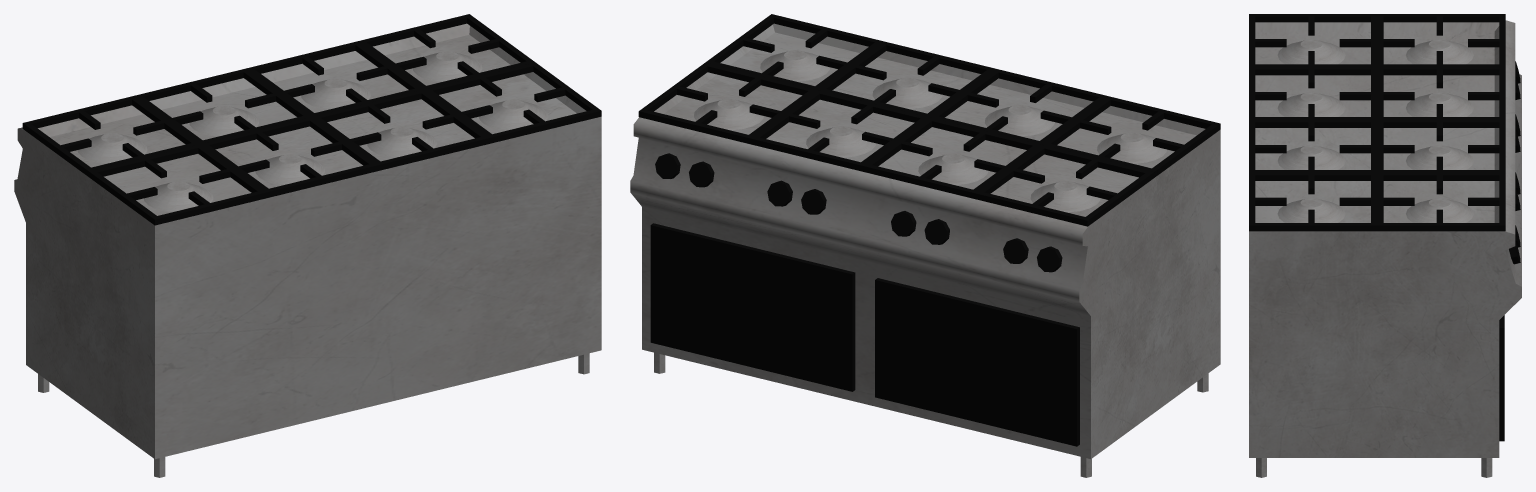
File: cantina-cooker.fbx
The picture shows the model from 3 angles, left to right: view 1: azimuth 30°, elevation 25°; view 2: azimuth 150°, elevation 25°; view 3: azimuth 270°, elevation 25°; orthographic projection. The views are drawn at different scales.
Parts seen in each view (by area): view 1: cooker_main1, round1 (×8), line1 (×8), line2 (×8), line (×4), line3 (×2); view 2: cooker_main1, oven, oven1, round1 (×8), line (×8), line2 (×8), line1 (×4), line3 (×2); view 3: cooker_main1, round1 (×8), line3 (×8), line2 (×8), line (×8), line1 (×8), oven.
Part boxes in pixels (x1=…): cooker_main1: x1=14, y1=23, x2=601, y2=459; round1 (×8): x1=78, y1=51, x2=548, y2=212; line1 (×8): x1=22, y1=14, x2=538, y2=178; line2 (×8): x1=132, y1=16, x2=597, y2=192; line (×4): x1=151, y1=108, x2=601, y2=225; line3 (×2): x1=26, y1=124, x2=156, y2=222; cooker_main1: x1=630, y1=23, x2=1220, y2=458; oven: x1=650, y1=223, x2=855, y2=391; oven1: x1=875, y1=278, x2=1079, y2=446; round1 (×8): x1=694, y1=50, x2=1166, y2=212; line (×8): x1=702, y1=14, x2=1220, y2=179; line2 (×8): x1=642, y1=16, x2=1110, y2=193; line1 (×4): x1=638, y1=109, x2=1090, y2=226; line3 (×2): x1=1086, y1=124, x2=1217, y2=223; cooker_main1: x1=1249, y1=20, x2=1521, y2=457; round1 (×8): x1=1277, y1=39, x2=1473, y2=222; line3 (×8): x1=1255, y1=14, x2=1499, y2=180; line2 (×8): x1=1255, y1=64, x2=1499, y2=231; line (×8): x1=1249, y1=14, x2=1383, y2=231; line1 (×8): x1=1371, y1=14, x2=1505, y2=231; oven: x1=1499, y1=315, x2=1504, y2=441.
Bounding box in the file's own units: 400 × 225 × 218.
